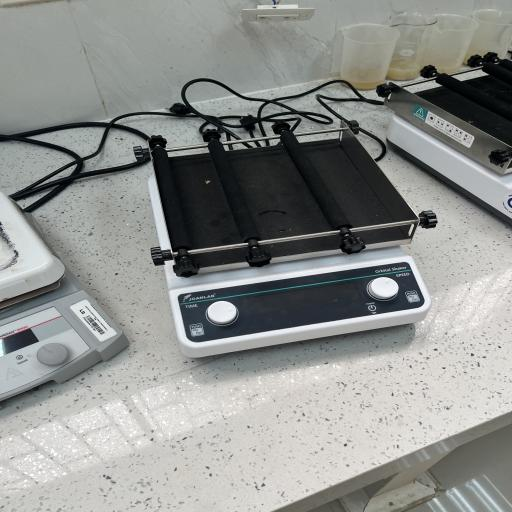Agitador_Orbital_DLAB: (121, 108, 454, 372)
